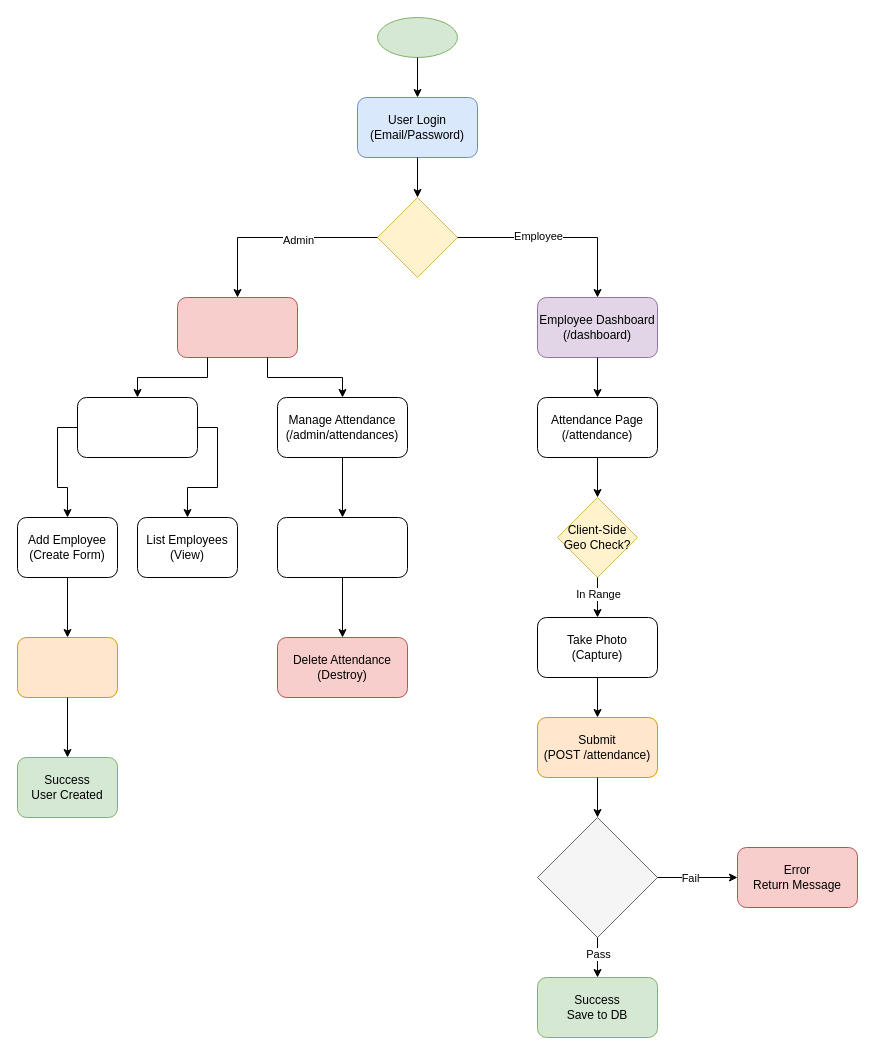
Image size: 875x1055. Some labels were removed from this diagram. The shapes that lost their labels are listed below. From the top down, each one's centre as x and y in pixels, then its label:
At (417,37): "Start".
At (417,237): "Check Role".
At (237,327): "Admin Dashboard (/admin/dashboard)".
At (137,427): "Manage Users (/admin/employees)".
At (342,547): "View Detail & Photo (Secure Access)".
At (67,667): "Submit (POST /employees)".
At (597,877): "Server Validation (Block, Duplicate, Geo, Photo)".
